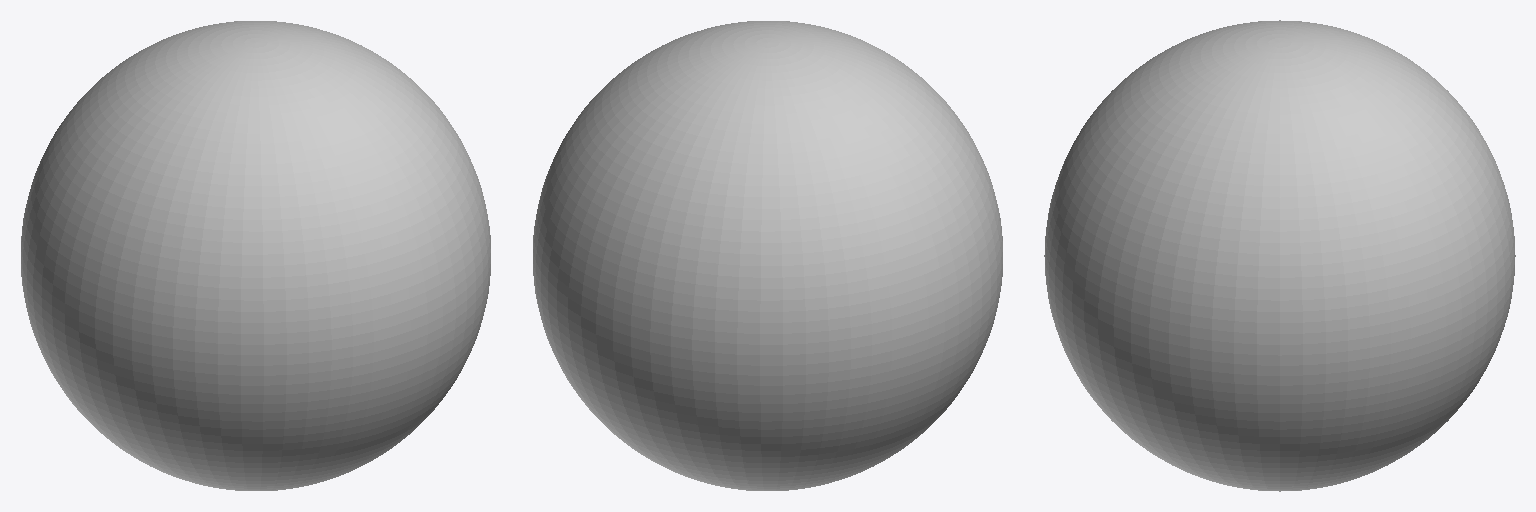
The model's file is CornellRightSphere.obj.
3 views of the same model, side by side, from view 1: azimuth 30°, elevation 25°; view 2: azimuth 150°, elevation 25°; view 3: azimuth 270°, elevation 25° (orthographic).
Size of the model in its own units: 180 by 180 by 180.